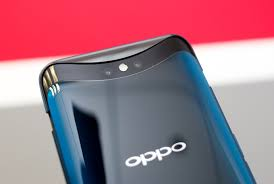oppo: (35, 28, 256, 184)
